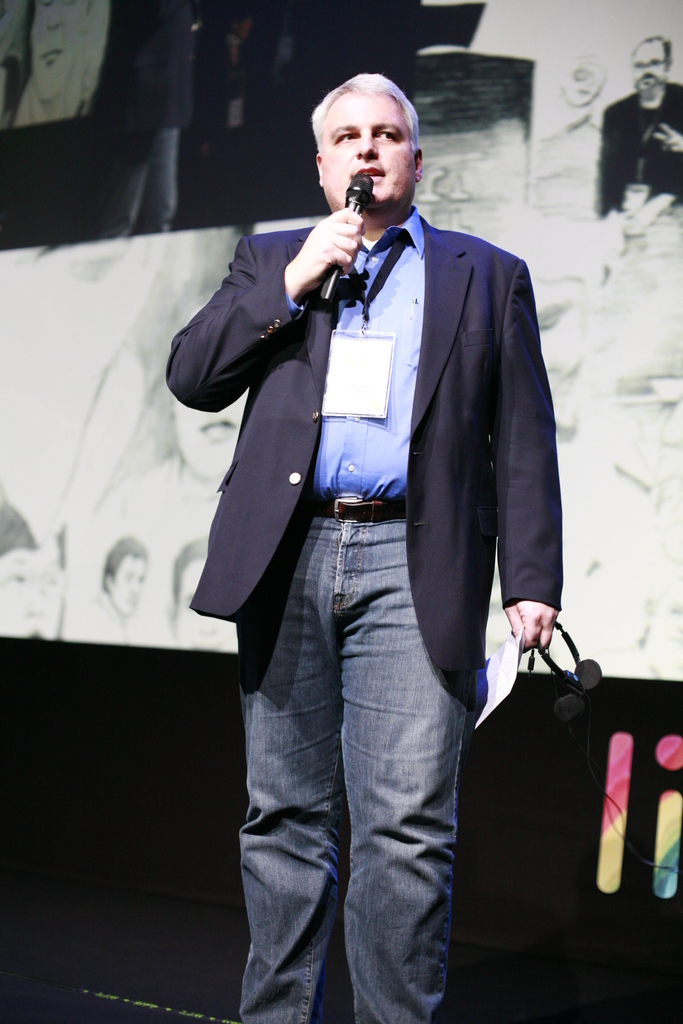Human-face: (320, 92, 415, 211), (169, 387, 250, 481), (167, 559, 236, 653), (29, 0, 85, 100), (0, 547, 42, 639), (108, 554, 148, 616), (632, 45, 666, 99)
